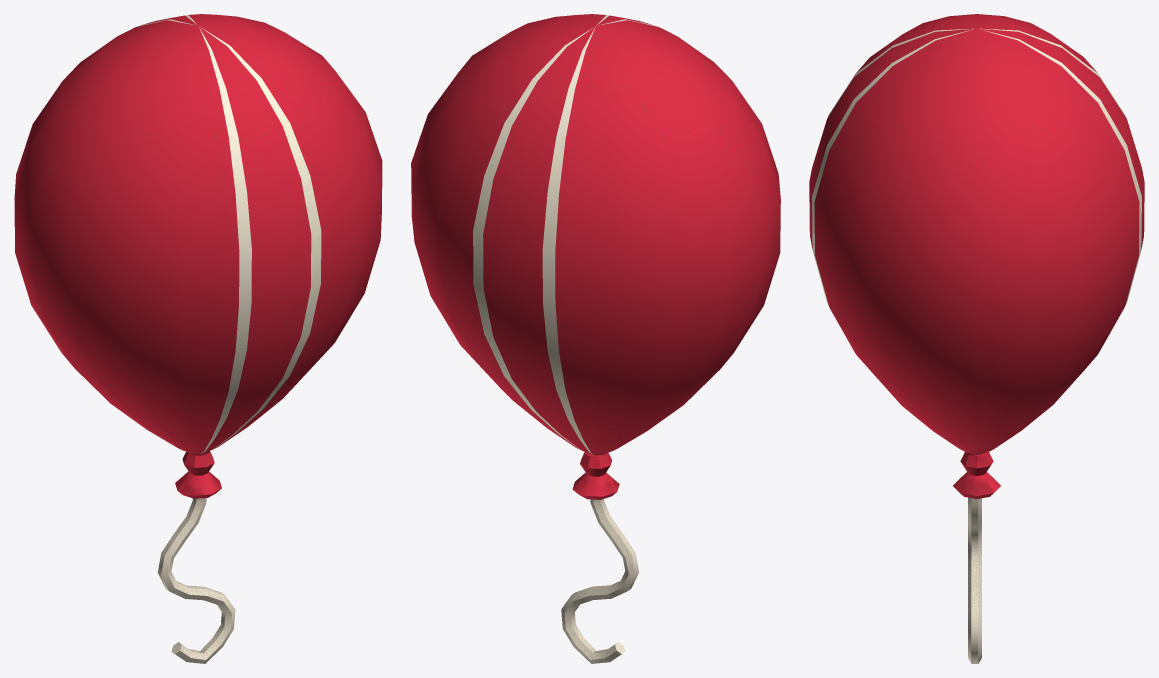
3 views of the same model, side by side, from view 1: azimuth 30°, elevation 25°; view 2: azimuth 150°, elevation 25°; view 3: azimuth 270°, elevation 25° (orthographic).
Parts seen in each view (by area): view 1: Circus_red_glossy_latex, Cream_latex_stripes, Cream_cotton_string; view 2: Circus_red_glossy_latex, Cream_latex_stripes, Cream_cotton_string; view 3: Circus_red_glossy_latex, Cream_latex_stripes, Cream_cotton_string.
Boxes of the visible parts, x1,y1,x2,y2 form: Circus_red_glossy_latex: (14, 14, 382, 498); Cream_latex_stripes: (136, 15, 321, 453); Cream_cotton_string: (157, 498, 235, 663); Circus_red_glossy_latex: (411, 14, 780, 499); Cream_latex_stripes: (473, 15, 657, 454); Cream_cotton_string: (561, 499, 638, 663); Circus_red_glossy_latex: (809, 14, 1144, 498); Cream_latex_stripes: (812, 28, 1141, 305); Cream_cotton_string: (968, 497, 981, 663).
Bounding box in the file's own units: 0.5454 × 1 × 0.4799.
3 materials, 3 textured.
